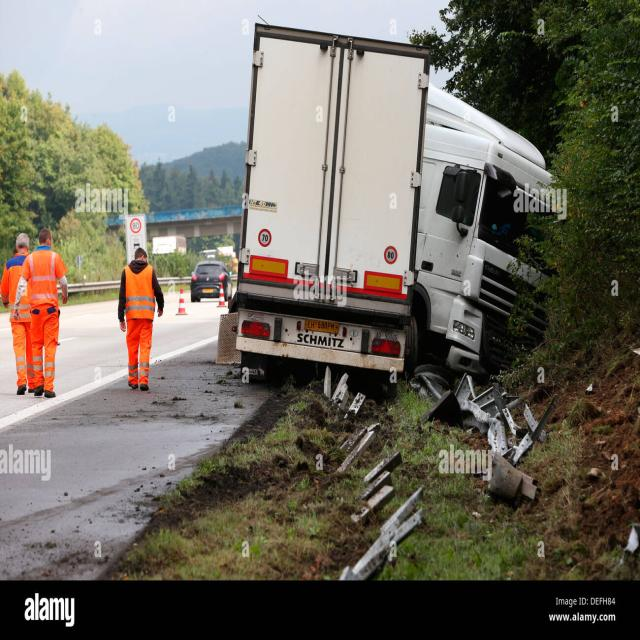Accident: (180, 9, 578, 454)
